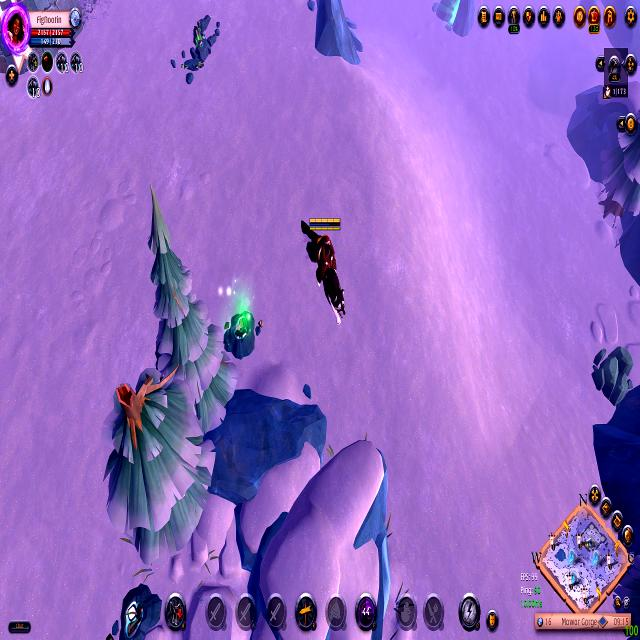player: (170, 12, 222, 89)
red: (298, 213, 350, 327)
tree: (589, 337, 639, 406)
